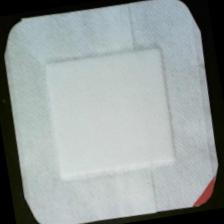Dressing: (1, 1, 224, 224)
Red_T: (184, 172, 224, 211)
